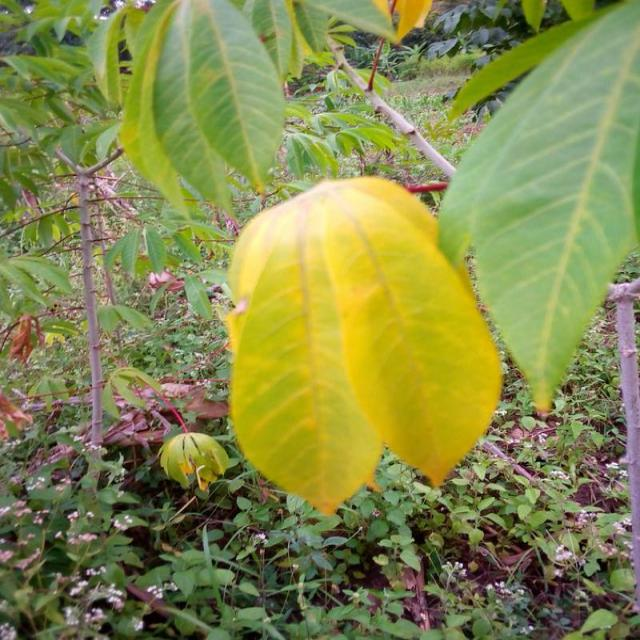cassava leaf: (224, 174, 503, 516), (438, 0, 640, 414), (119, 0, 288, 224)
